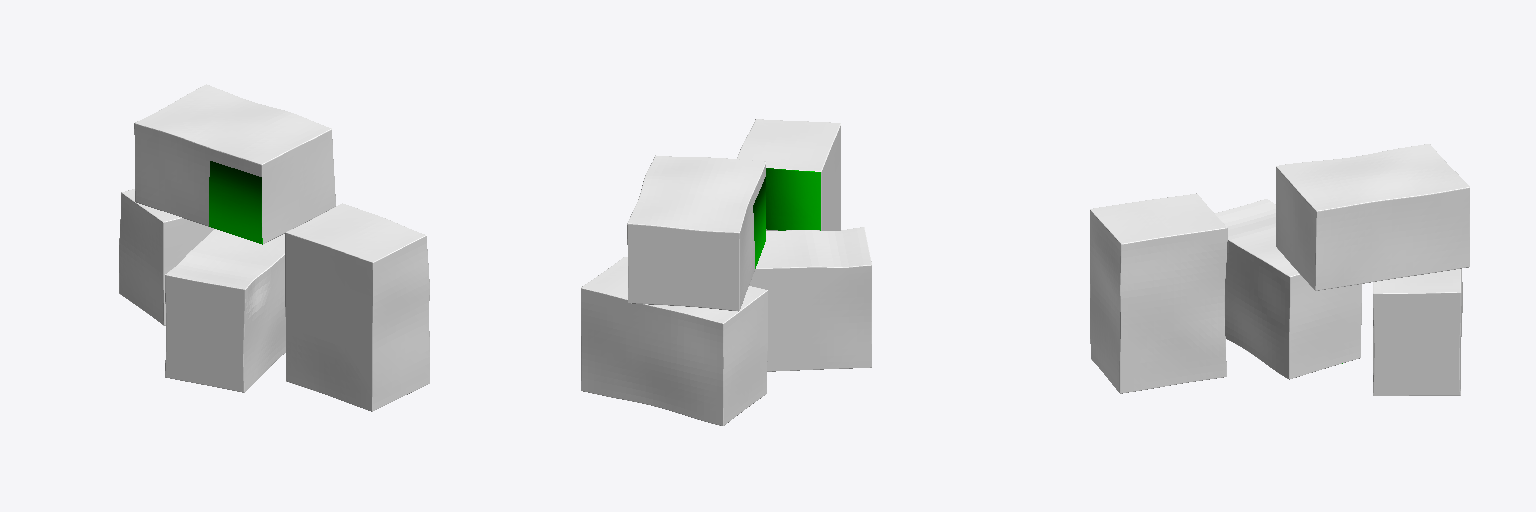
3 renders of one model, left to right at view 1: azimuth 30°, elevation 25°; view 2: azimuth 150°, elevation 25°; view 3: azimuth 270°, elevation 25°, orthographic.
Visible parts, largest first — view 1: Carton; view 2: Carton; view 3: Carton.
Part boxes in pixels (left/top/right/bottom): Carton: left=119, top=84, right=429, bottom=411; Carton: left=581, top=119, right=871, bottom=425; Carton: left=1090, top=144, right=1469, bottom=395.
Bounding box in the file's own units: 14.01 × 12.76 × 23.67.
1 materials, 1 textured.